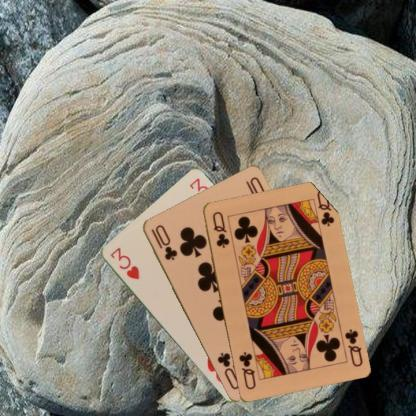10c: (148, 222, 178, 262)
3h: (108, 244, 140, 282)
Qc: (341, 326, 364, 368), (209, 209, 231, 250)
